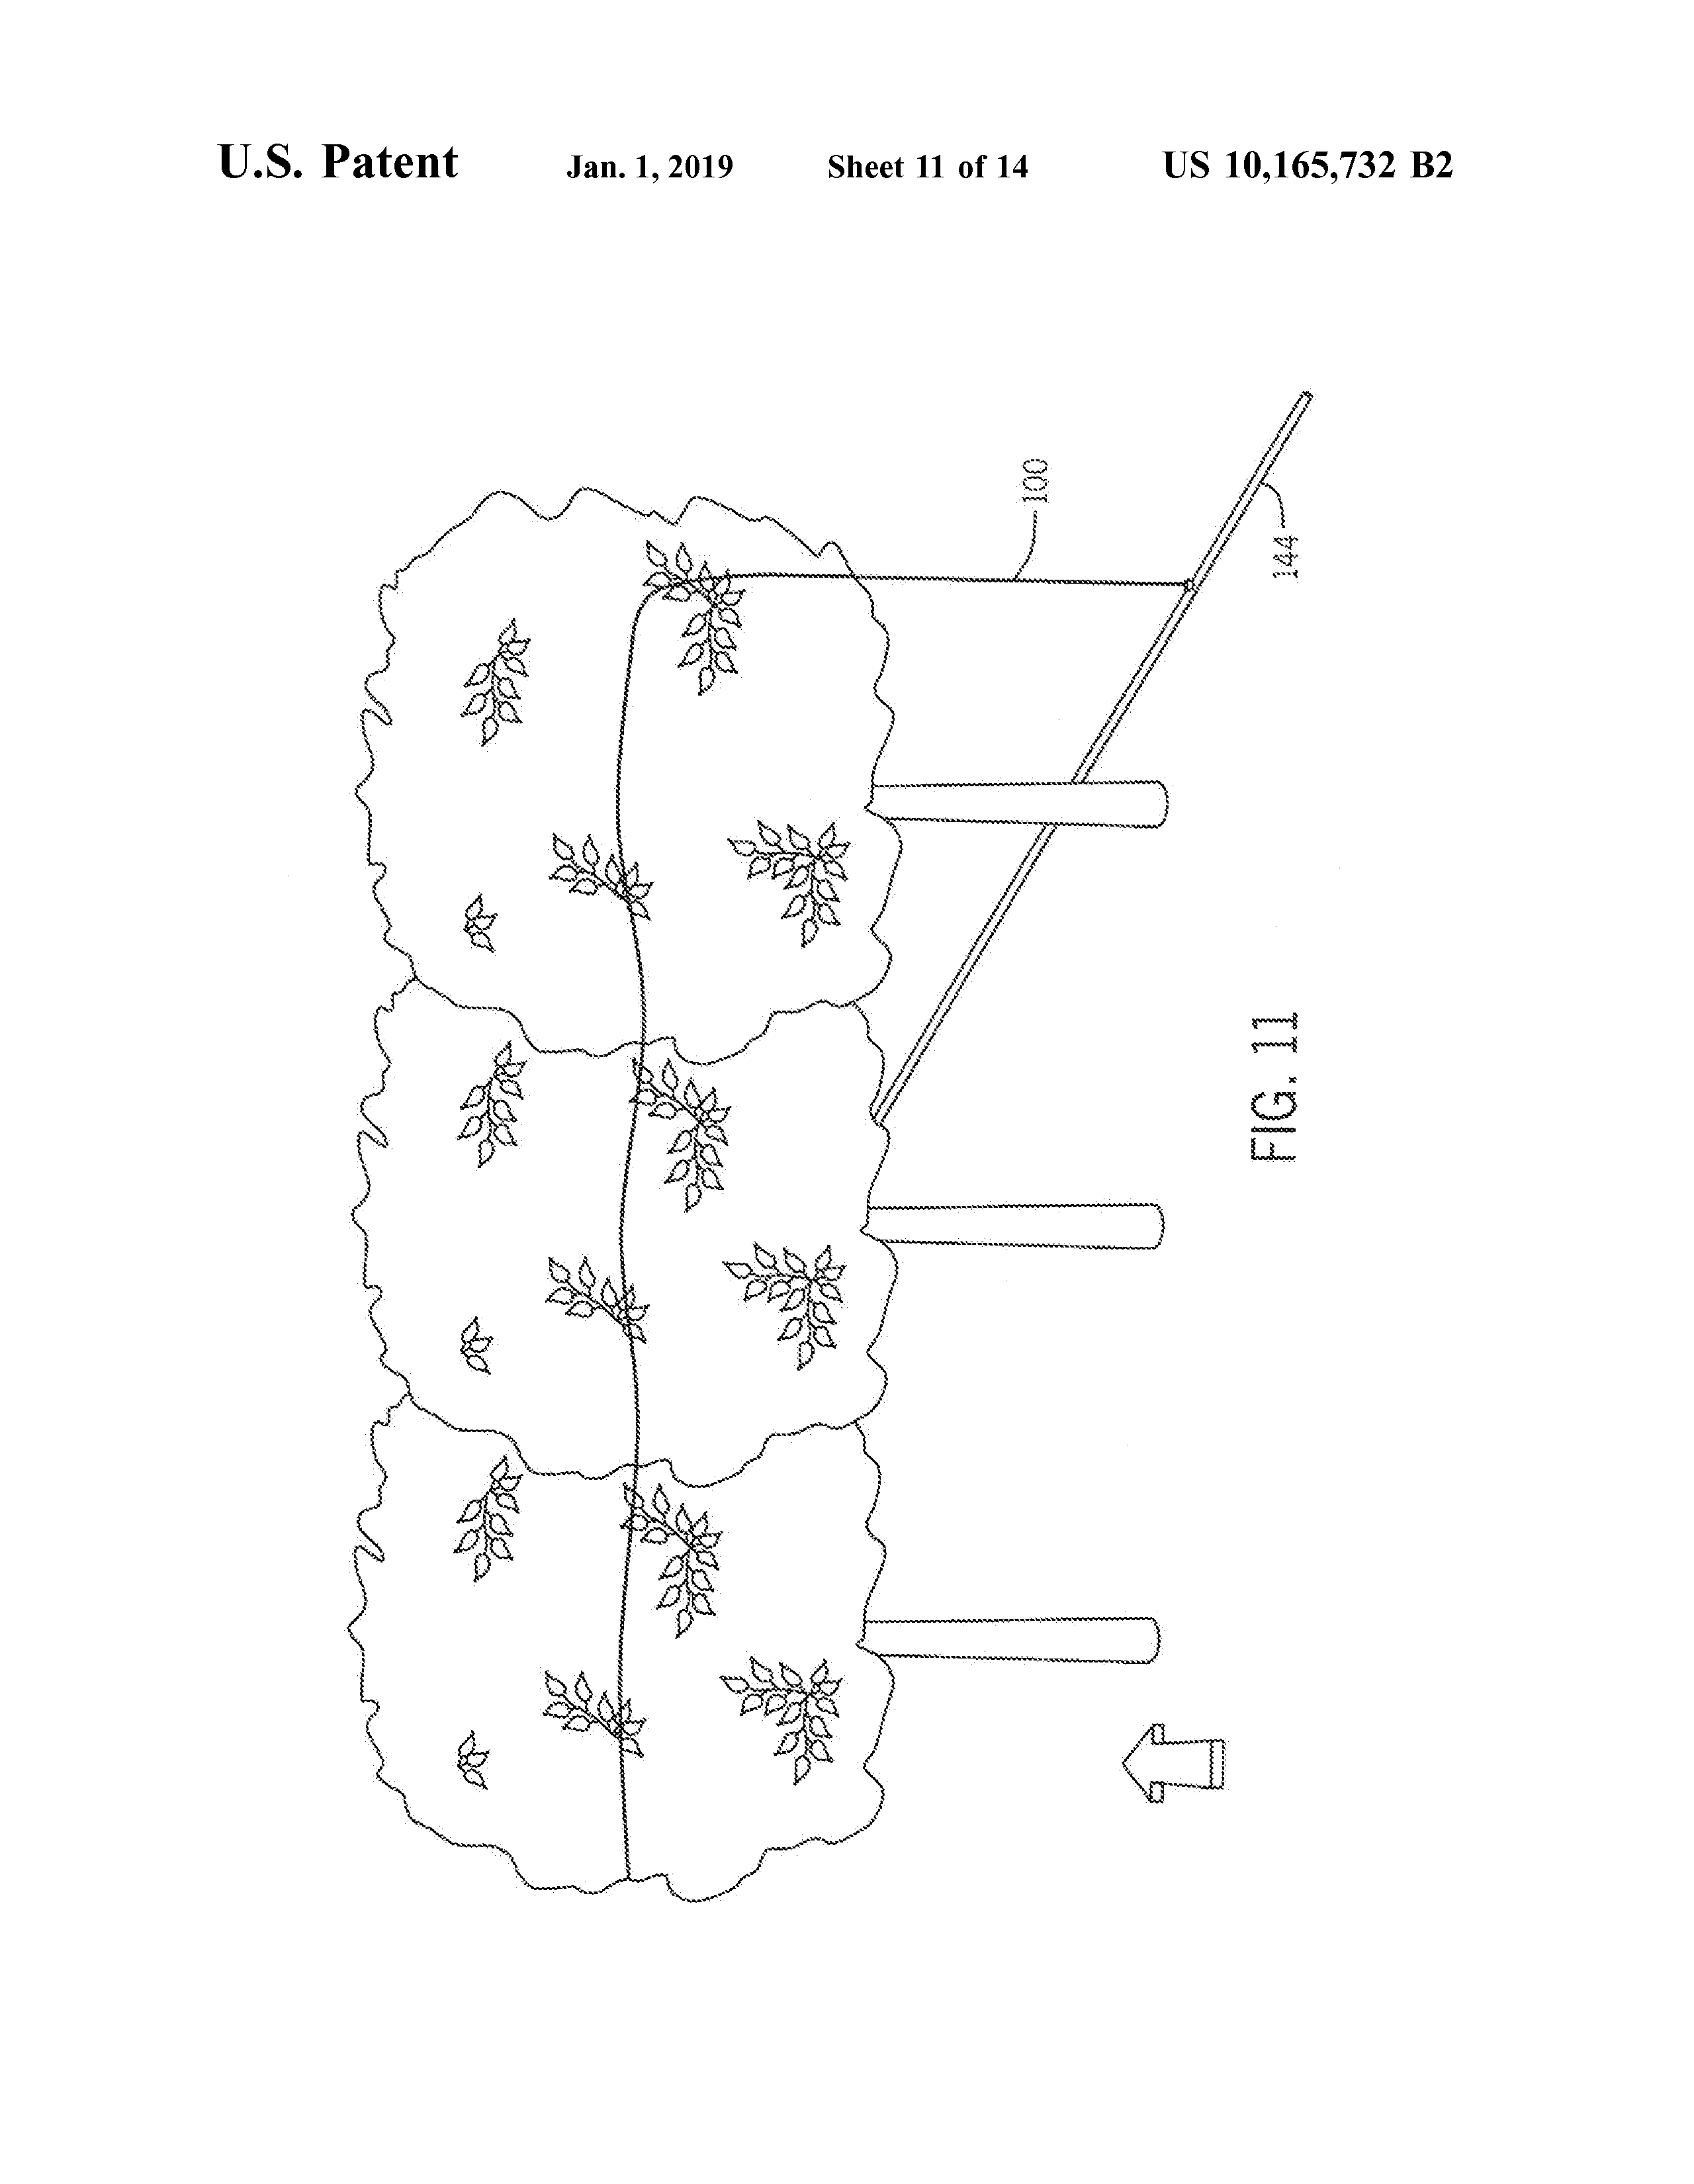patent image: (292, 380, 1380, 1925)
